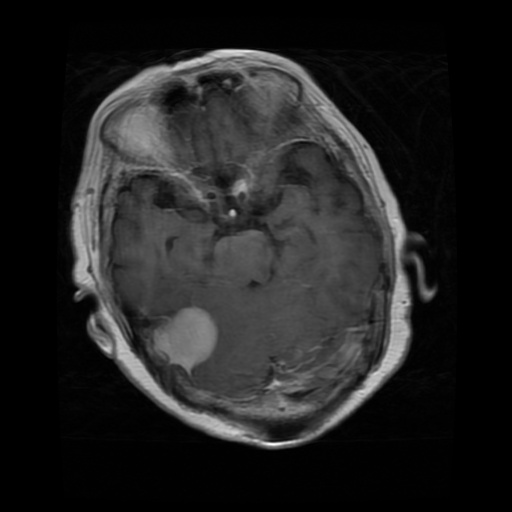meningioma: (154, 307, 217, 368)
